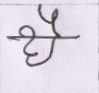ai_matra: (37, 4, 65, 35)
